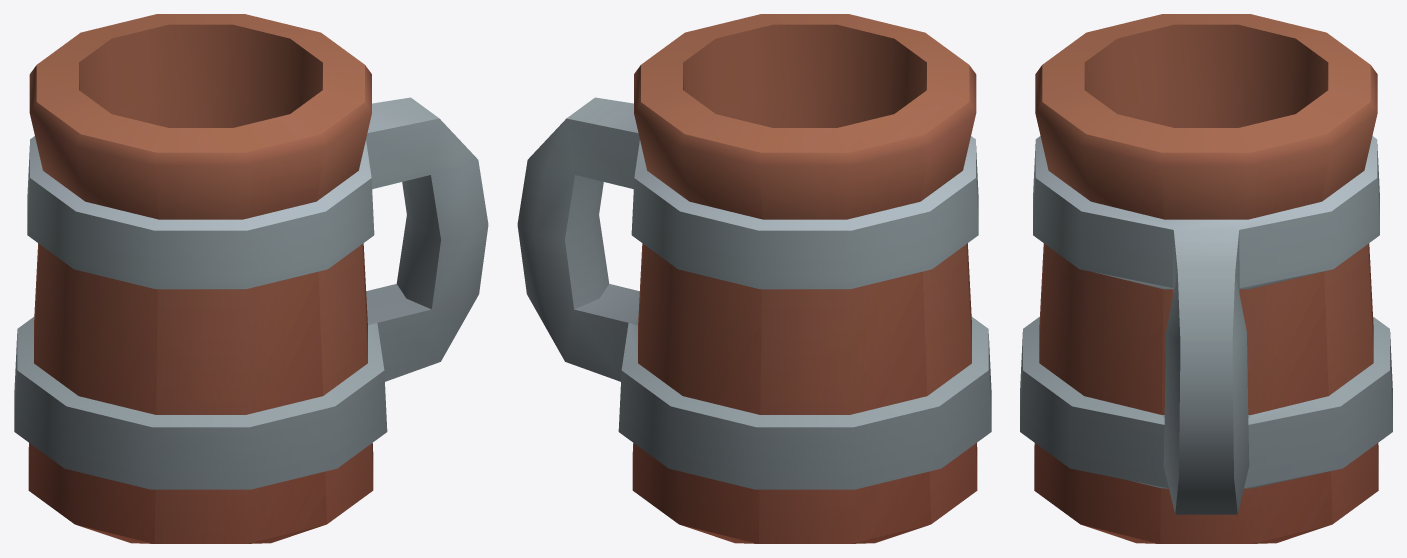
File: kaykit-character-pack-adventures-mug-empty.glb
The picture shows the model from 3 angles, left to right: view 1: azimuth 30°, elevation 25°; view 2: azimuth 150°, elevation 25°; view 3: azimuth 270°, elevation 25°; orthographic projection.
Parts seen in each view (by area): view 1: mug_empty; view 2: mug_empty; view 3: mug_empty.
Boxes of the visible parts, x1,y1,x2,y2 form: mug_empty: (14, 14, 488, 543); mug_empty: (517, 14, 991, 543); mug_empty: (1020, 14, 1392, 543).
Size of the model in its own units: 0.5342 by 0.4868 by 0.396.
1 material, 1 textured.
